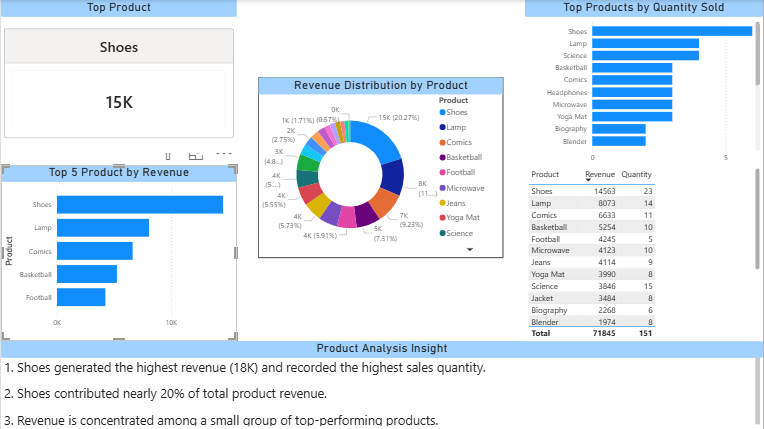

The page's visual inventory and layout, read from the dashboard file:
{"tool":"powerbi","page":{"name":"Product Analysis","canvas":[1280,720],"ordinal":2},"visuals":[{"type":"barChart","title":"Top 5 Product by Revenue","fields":{"Category":["Cleaned_messy_data.Product"],"Y":["Sum(Cleaned_messy_data.Total)"]},"box":[0,277.2,396.4,295.6],"z":0},{"type":"barChart","title":"Top Products by Quantity Sold","fields":{"Category":["Cleaned_messy_data.Product"],"Y":["CountNonNull(Cleaned_messy_data.Order_ID)"]},"box":[880.2,0,399.8,295.6],"z":1000},{"type":"cardVisual","title":"Top Product","fields":{"Rows":["Cleaned_messy_data.Product"],"Data":["Sum(Cleaned_messy_data.Total)"]},"box":[0,0,396.4,257],"z":2000},{"type":"donutChart","title":"Revenue Distribution by Product","fields":{"Category":["Cleaned_messy_data.Product"],"Y":["Sum(Cleaned_messy_data.Total)"]},"box":[431.7,129.3,411.5,304],"z":3000},{"type":"textbox","title":"Product Analysis Insight","box":[0,572.8,1280,147.8],"z":4000},{"type":"tableEx","fields":{"Values":["Cleaned_messy_data.Product","Sum(Cleaned_messy_data.Total)","Sum(Cleaned_messy_data.Quantity)"]},"box":[880.2,277.2,399.8,295.6],"z":5000}]}

Visuals, with their boxes in screenshot pixels (x1, y1, x2, y2), scaled from the page's 1280x720 canvas onto the 764x429 screenshot:
"Top 5 Product by Revenue" barChart: crop(0, 165, 237, 341)
"Top Products by Quantity Sold" barChart: crop(525, 0, 763, 176)
"Top Product" cardVisual: crop(0, 0, 237, 153)
"Revenue Distribution by Product" donutChart: crop(258, 77, 503, 258)
"Product Analysis Insight" textbox: crop(0, 341, 763, 428)
tableEx - Cleaned_messy_data.Product x Sum(Cleaned_messy_data.Total): crop(525, 165, 763, 341)
